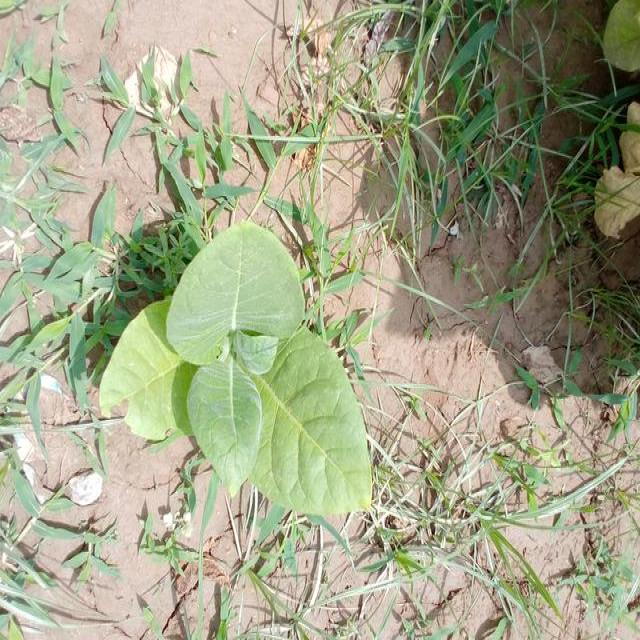crop: (116, 233, 382, 512)
